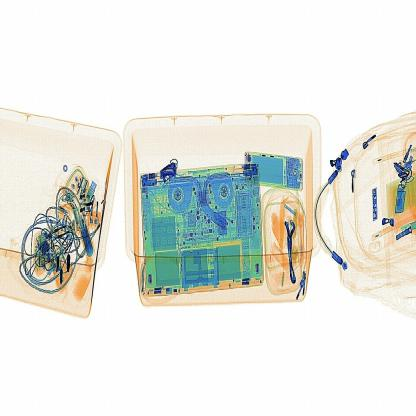knife: (160, 159, 181, 184)
